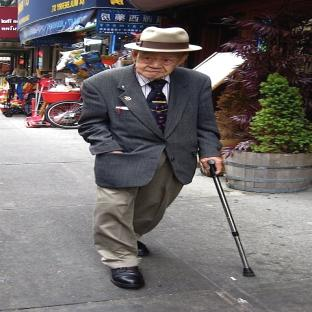Human: (79, 27, 222, 288)
